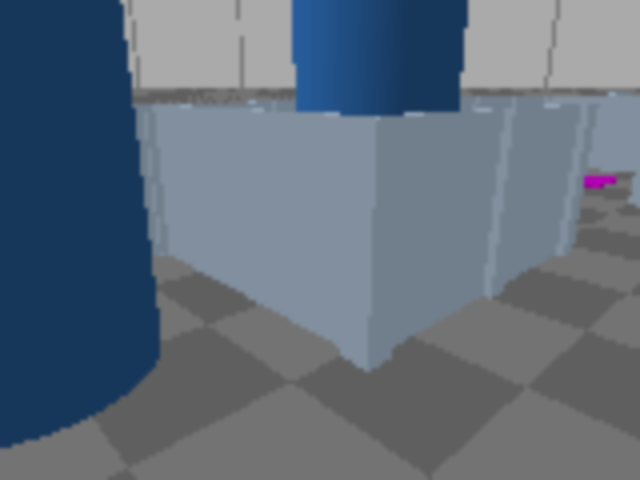person: (0, 0, 152, 426)
